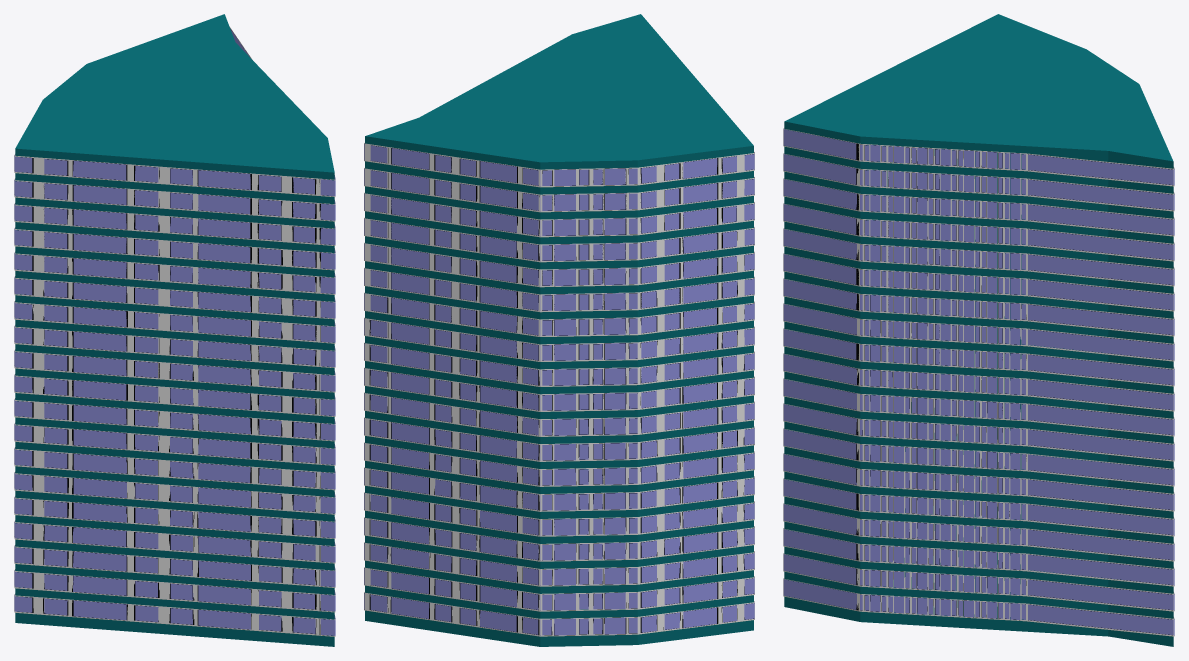
Rendered from FourTropicanaBoulevard.fbx.
The picture shows the model from 3 angles, left to right: view 1: azimuth 30°, elevation 25°; view 2: azimuth 150°, elevation 25°; view 3: azimuth 270°, elevation 25°; orthographic projection. The views are drawn at different scales.
Parts seen in each view (by area): view 1: 4TropicanaBoulevard; view 2: 4TropicanaBoulevard; view 3: 4TropicanaBoulevard.
Part boxes in pixels (x1=…): 4TropicanaBoulevard: x1=14, y1=14, x2=335, y2=646; 4TropicanaBoulevard: x1=364, y1=14, x2=754, y2=646; 4TropicanaBoulevard: x1=783, y1=14, x2=1174, y2=646.
Bounding box in the file's own units: 3631 × 5546 × 4048.
